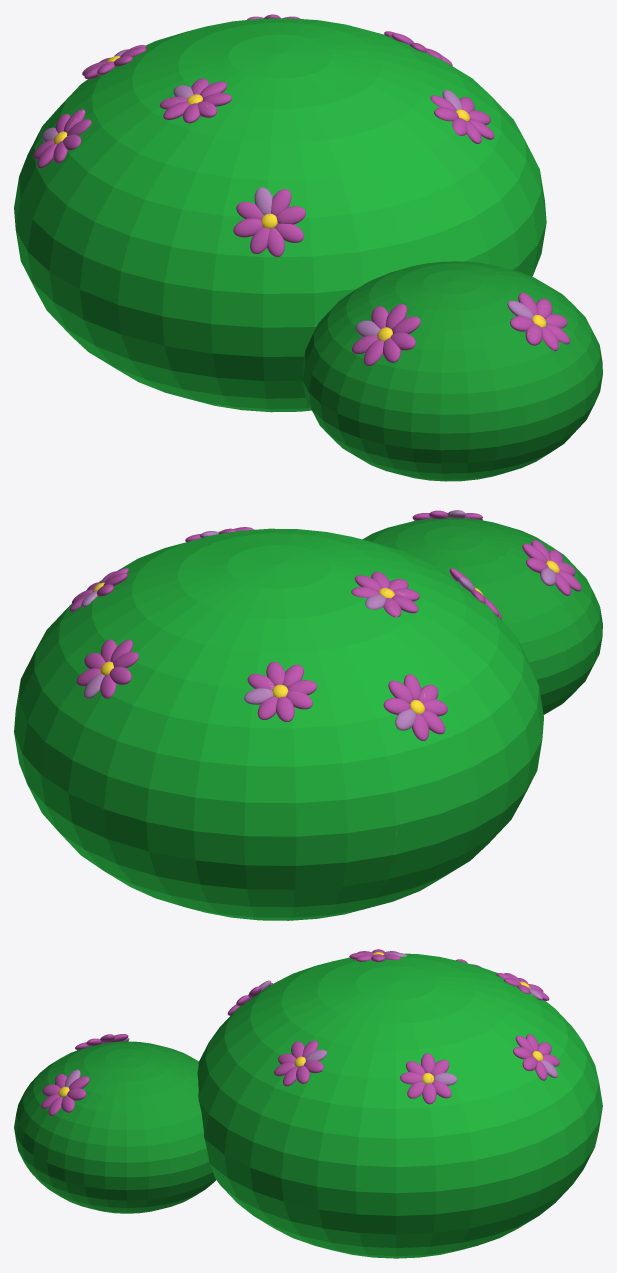
File: PLANT #1.fbx
The picture shows the model from 3 angles, top to bottom: view 1: azimuth 30°, elevation 25°; view 2: azimuth 150°, elevation 25°; view 3: azimuth 270°, elevation 25°; orthographic projection. The views are drawn at different scales.
Visible parts, largest first — view 1: pl-one; view 2: pl-one; view 3: pl-one.
Boxes of the visible parts, bbox=[...] form: pl-one: bbox=[14, 14, 602, 481]; pl-one: bbox=[14, 510, 602, 920]; pl-one: bbox=[14, 949, 602, 1258].
Bounding box in the file's own units: 376 × 251 × 535.
1 material, 1 textured.
